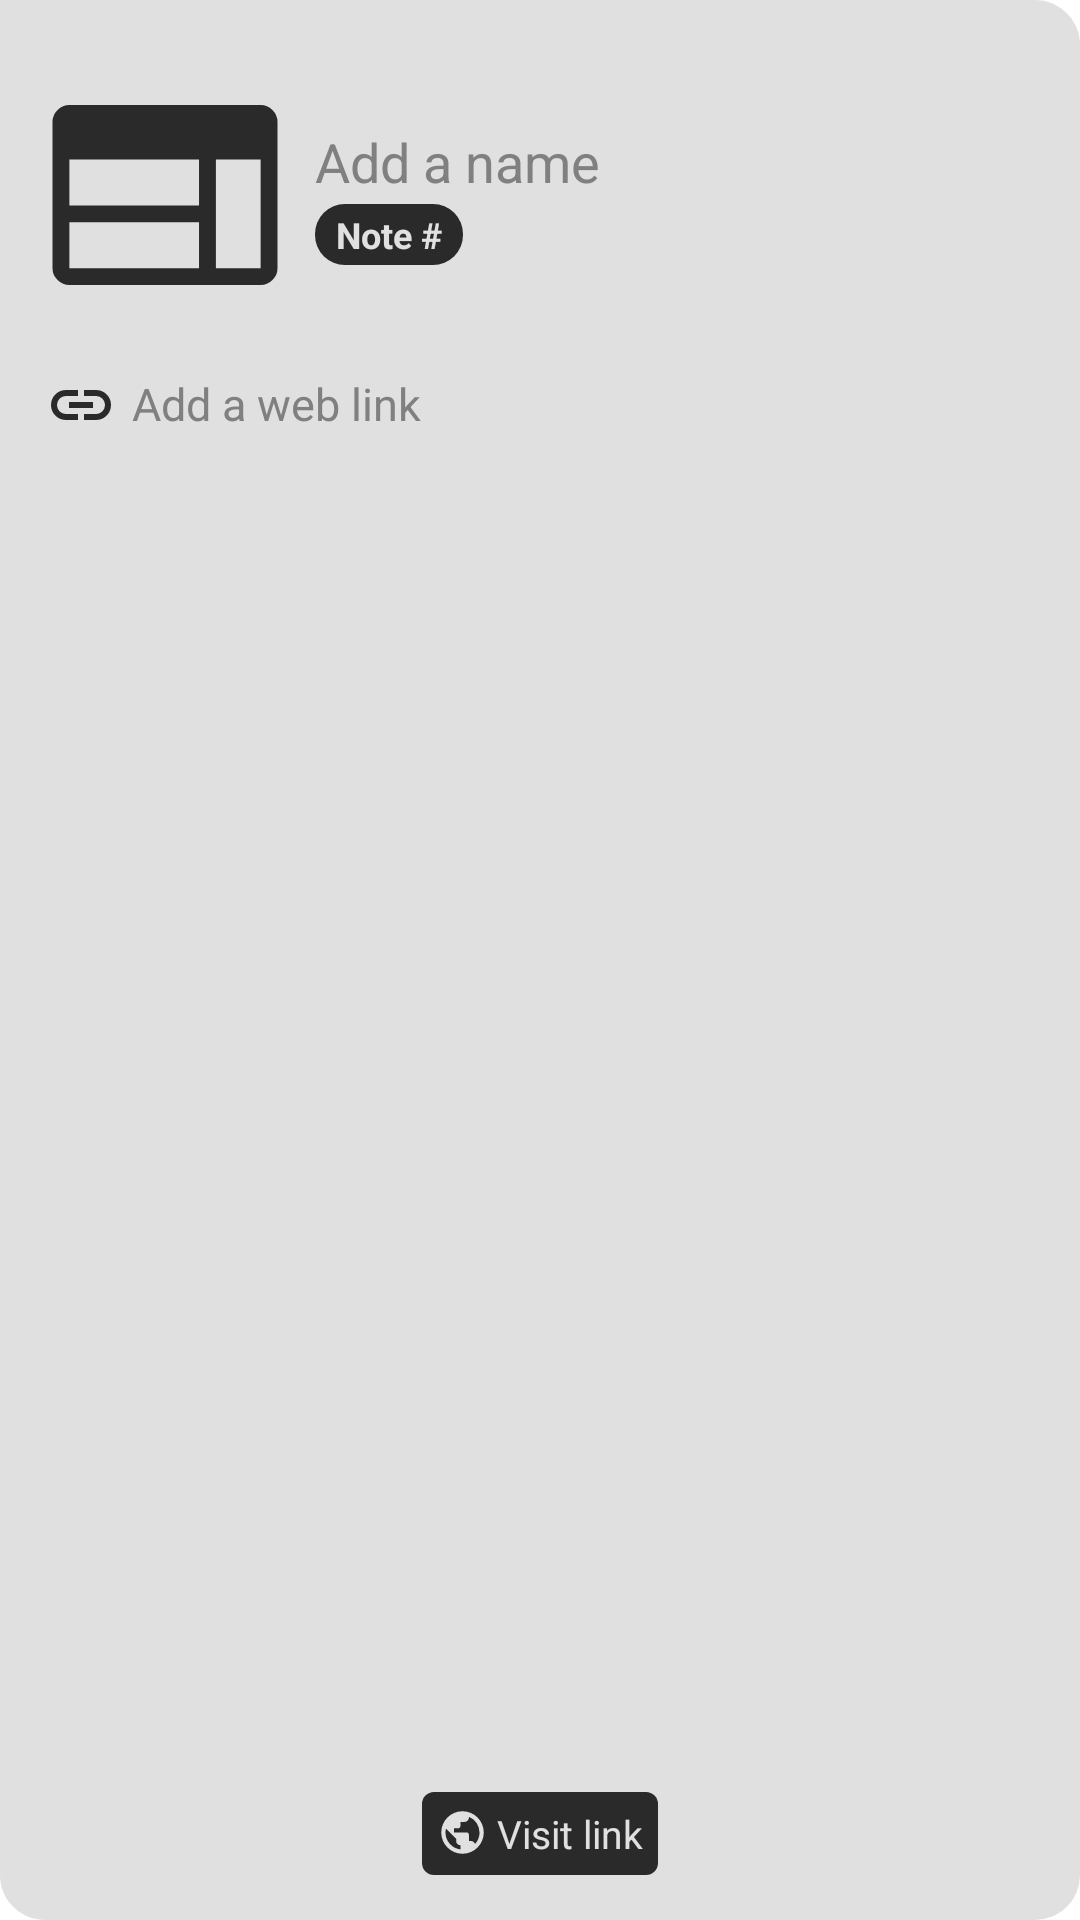

Icons on this 1080×1920 Android screen, each with the point to tap as (x,y):
web: (462,1832)
